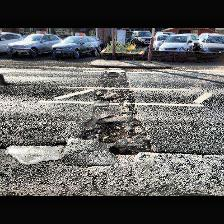pothole: (80, 116, 130, 141), (108, 145, 138, 157), (107, 71, 118, 79)
